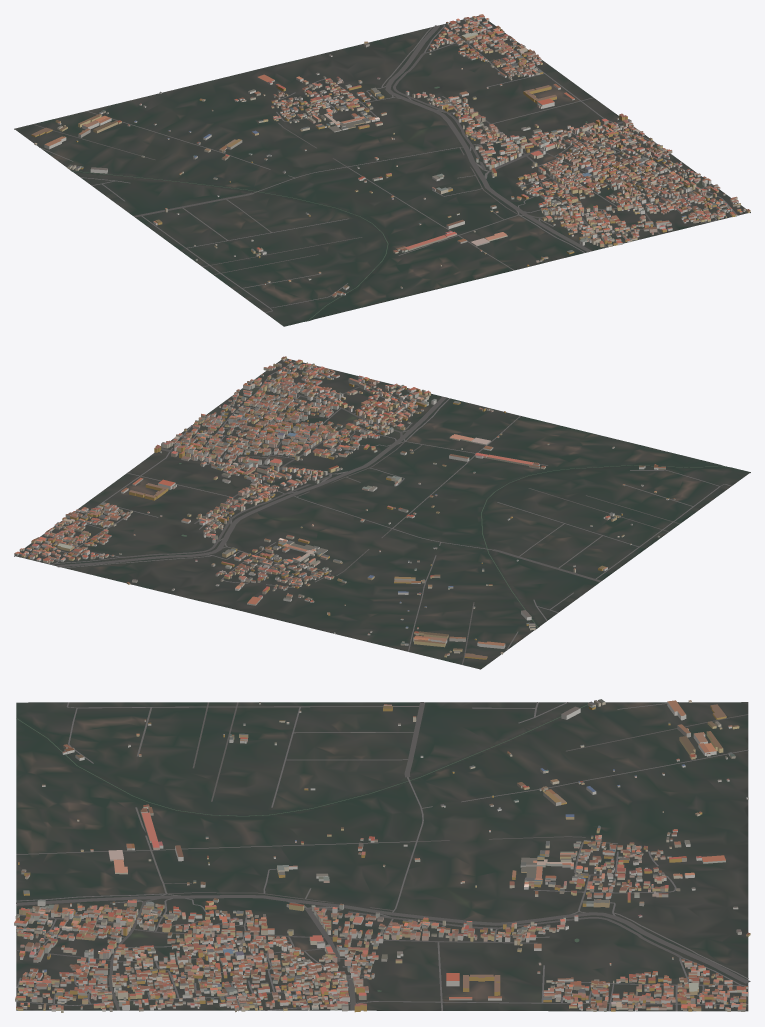
3 views of the same model, one above another, from view 1: azimuth 30°, elevation 25°; view 2: azimuth 150°, elevation 25°; view 3: azimuth 270°, elevation 25° (orthographic). The views are drawn at different scales.
Parts seen in each view (by area): view 1: ground, buildings, roads; view 2: ground, buildings, roads; view 3: ground, buildings, roads, water.
Part boxes in pixels (x1,y1,x2,y2): ground: (14, 15, 750, 326); buildings: (31, 14, 750, 297); roads: (32, 17, 737, 312); ground: (14, 358, 750, 669); buildings: (14, 356, 675, 659); roads: (24, 361, 731, 664); ground: (16, 702, 748, 1011); buildings: (14, 699, 750, 1012); roads: (16, 702, 750, 1011); water: (16, 704, 587, 991).
Size of the model in its own units: 1411 by 20.57 by 1411.
